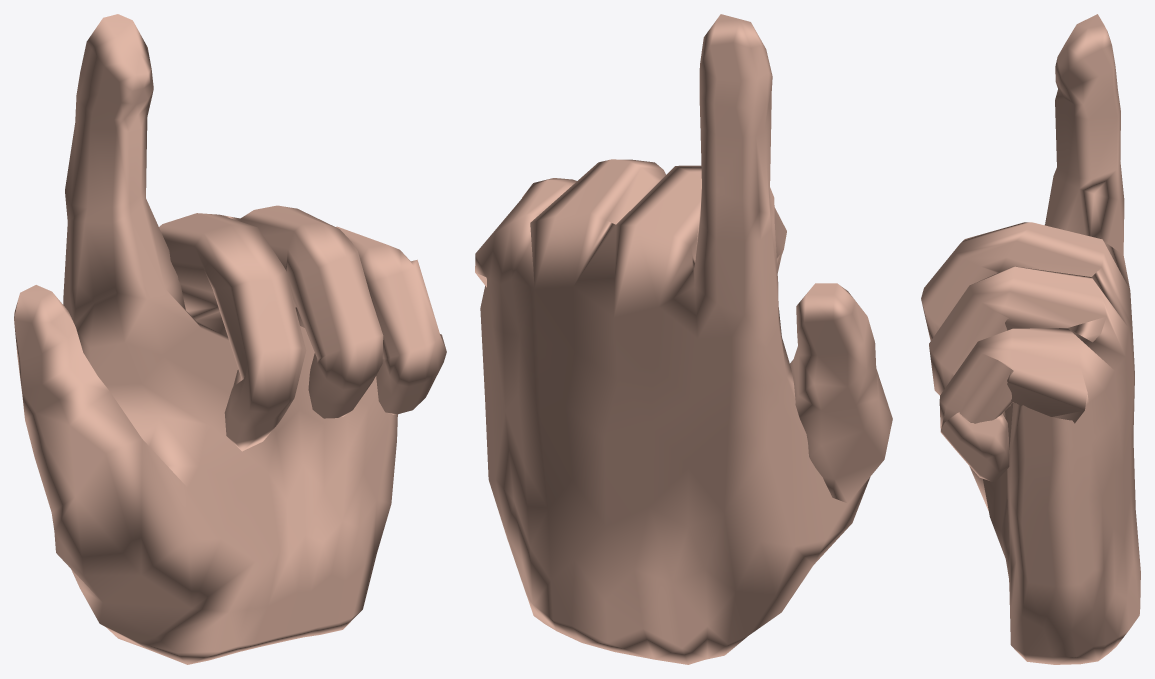
File: MAO_G.obj
3 renders of one model, left to right at view 1: azimuth 30°, elevation 25°; view 2: azimuth 150°, elevation 25°; view 3: azimuth 270°, elevation 25°, orthographic. The views are drawn at different scales.
Visible parts, largest first — view 1: mao_dir polySurface1; view 2: mao_dir polySurface1; view 3: mao_dir polySurface1.
Part boxes in pixels (x1=…): mao_dir polySurface1: x1=14, y1=14, x2=446, y2=664; mao_dir polySurface1: x1=475, y1=14, x2=892, y2=664; mao_dir polySurface1: x1=921, y1=14, x2=1140, y2=664.
Size of the model in its own units: 139 by 227 by 80.54.
